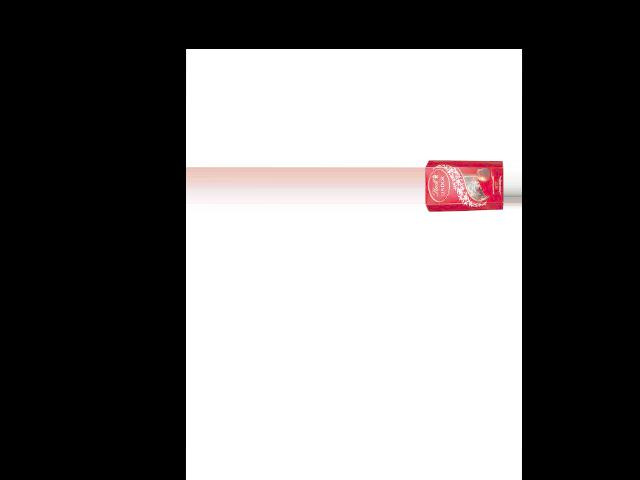chocolate: (425, 156, 504, 213)
